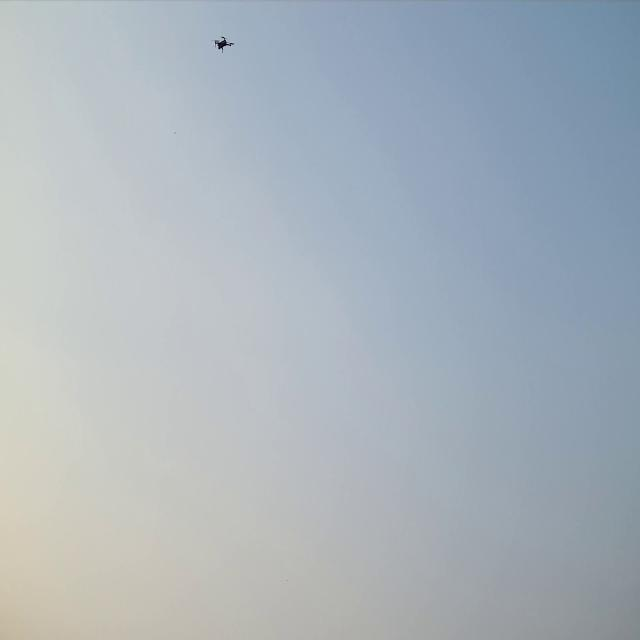UAV: (210, 36, 236, 54)
